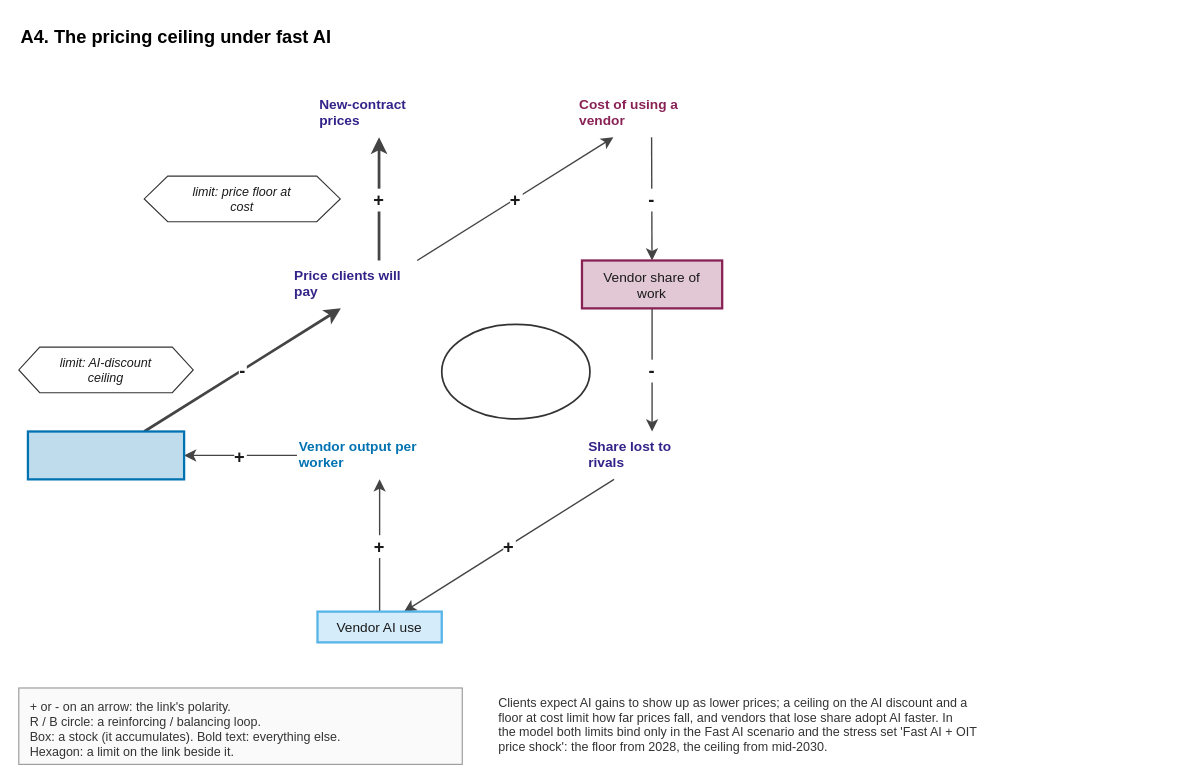
Some shapes in this 1183 by 783 pixel diagram are drawn without their labels. Each missing label, with the centre of its shape:
B Lower prices ease the AI push: the point at 515,371
What clients expect AI to save: the point at 105,455
